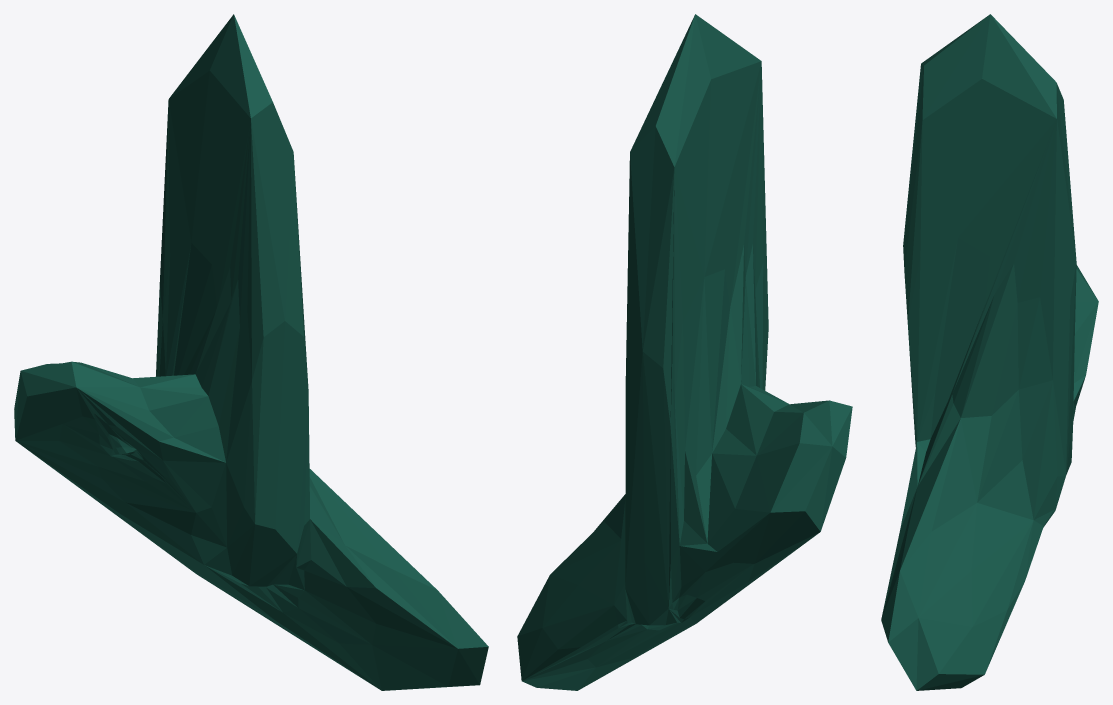
3 views of the same model, side by side, from view 1: azimuth 30°, elevation 25°; view 2: azimuth 150°, elevation 25°; view 3: azimuth 270°, elevation 25° (orthographic). The views are drawn at different scales.
Visible parts, largest first — view 1: 555_Cube.2239; view 2: 555_Cube.2239; view 3: 555_Cube.2239.
Boxes of the visible parts, bbox=[...] form: 555_Cube.2239: bbox=[14, 14, 488, 690]; 555_Cube.2239: bbox=[517, 14, 852, 690]; 555_Cube.2239: bbox=[881, 14, 1098, 690].
Bounding box in the file's own units: 8.71 × 15.41 × 5.04.
